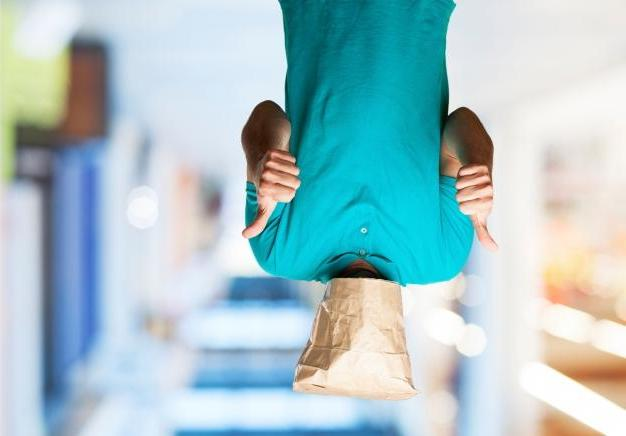thumbsdown: (242, 149, 302, 239), (455, 163, 499, 252)
